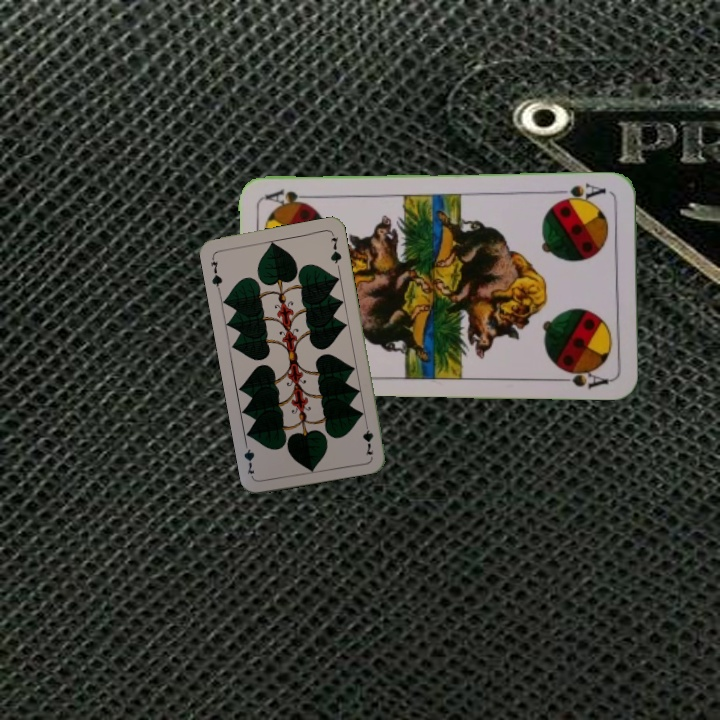G7: (207, 253, 225, 293), (359, 417, 376, 458)
SA: (553, 179, 609, 206)
